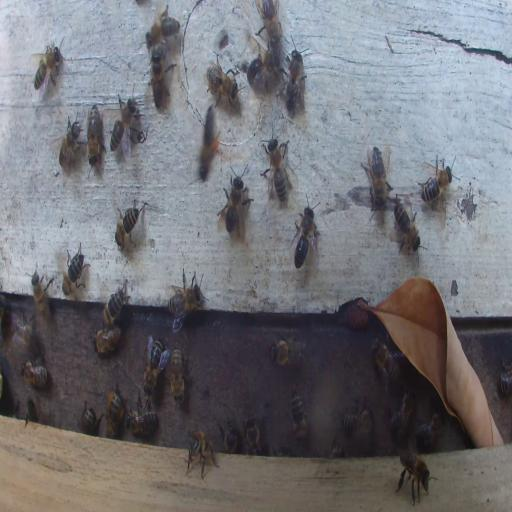nonpollenbee: (109, 86, 147, 160), (166, 264, 208, 330), (216, 167, 254, 239), (278, 38, 308, 114), (291, 194, 320, 272), (260, 133, 291, 203), (418, 152, 454, 210), (31, 40, 66, 97), (362, 143, 392, 208), (397, 451, 433, 505), (392, 194, 422, 256), (184, 427, 218, 479), (371, 339, 401, 390), (148, 46, 173, 107), (205, 60, 238, 104), (62, 243, 89, 296), (114, 203, 144, 250), (269, 331, 306, 369), (100, 282, 130, 328), (29, 268, 53, 322), (146, 8, 180, 46), (341, 399, 374, 438), (246, 52, 278, 91), (59, 116, 81, 172), (390, 388, 416, 435), (255, 0, 281, 44), (143, 337, 163, 394), (288, 390, 308, 444), (416, 411, 444, 449), (87, 103, 102, 170), (127, 404, 157, 437), (169, 346, 185, 404), (12, 313, 36, 347), (20, 360, 48, 389), (93, 324, 121, 353), (244, 416, 262, 455), (218, 420, 238, 454), (80, 403, 96, 433), (499, 359, 511, 398), (25, 398, 38, 424)
pollenbee: (198, 106, 222, 184), (106, 386, 124, 438)
